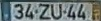3: (13, 3, 23, 20)
4: (65, 3, 76, 20), (76, 3, 86, 20), (24, 3, 34, 20)
U: (49, 2, 62, 20)
Z: (38, 3, 51, 20)
